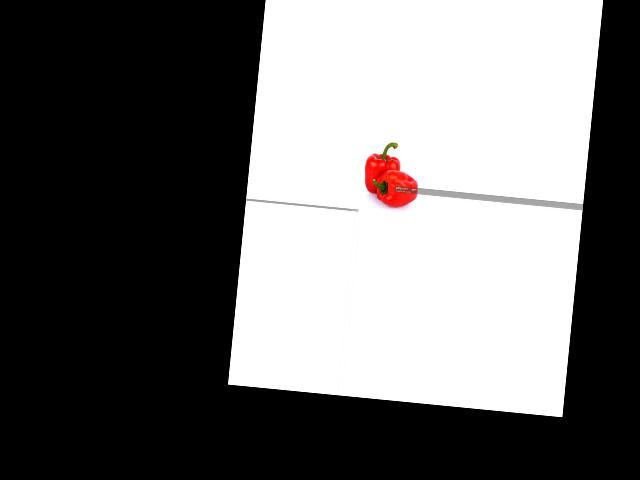bell_pepper: (371, 165, 424, 209)
